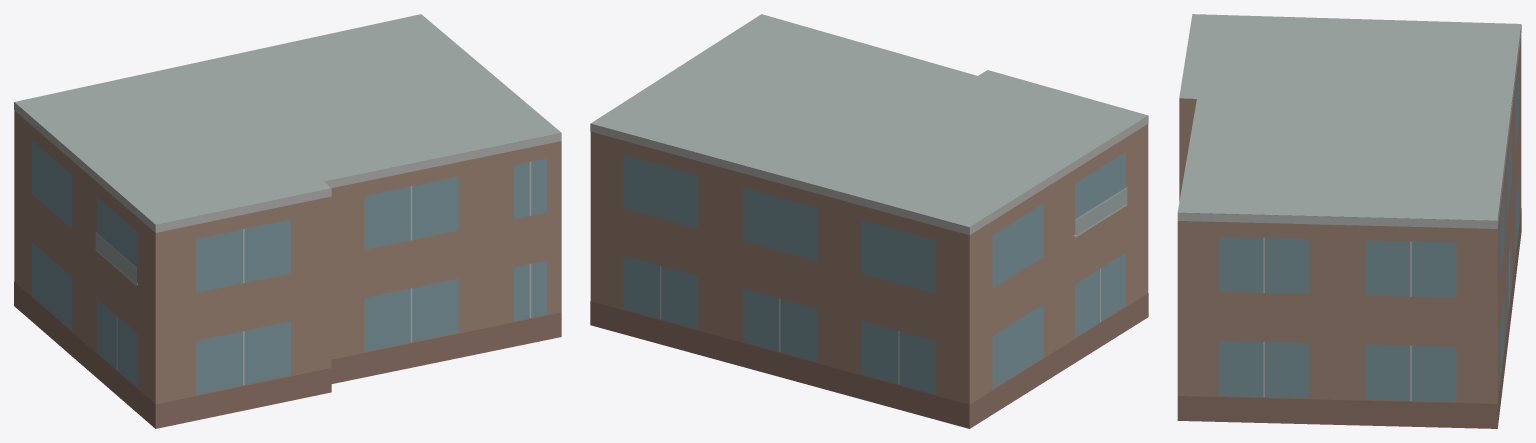
The model's file is survey-upis-32987911.glb.
3 views of the same model, side by side, from view 1: azimuth 30°, elevation 25°; view 2: azimuth 150°, elevation 25°; view 3: azimuth 270°, elevation 25° (orthographic). The views are drawn at different scales.
Visible parts, largest first — view 1: survey-upis-32987911.tmp; view 2: survey-upis-32987911.tmp; view 3: survey-upis-32987911.tmp.
Part boxes in pixels (x1,y1,x2,y2): survey-upis-32987911.tmp: (14, 14, 561, 428); survey-upis-32987911.tmp: (590, 14, 1148, 428); survey-upis-32987911.tmp: (1177, 14, 1521, 428).
Size of the model in its own units: 13 by 6.1 by 9.14.
